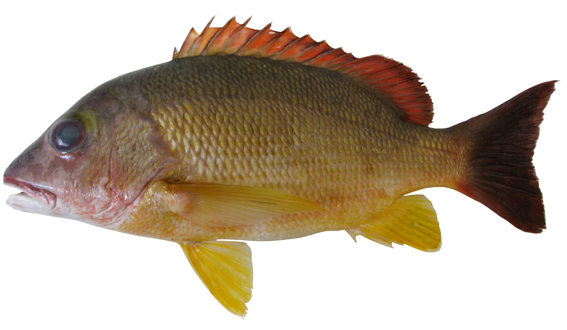fish: (3, 16, 559, 319)
